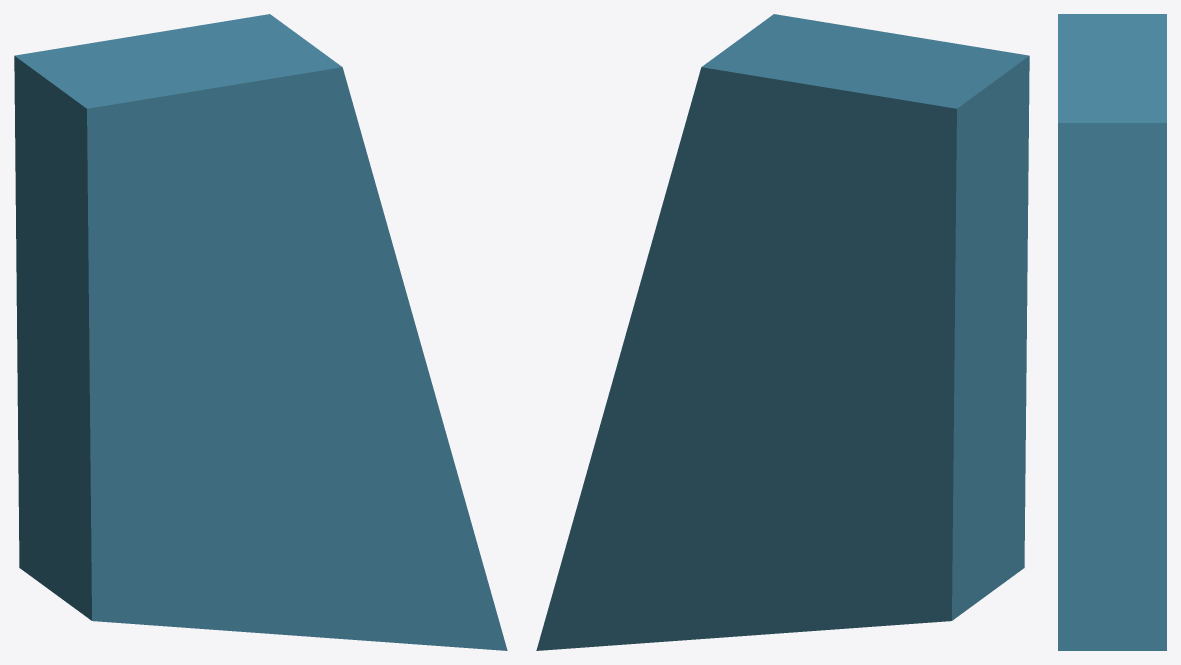
Rendered from NexusA_Trigger_58.fbx.
3 renders of one model, left to right at view 1: azimuth 30°, elevation 25°; view 2: azimuth 150°, elevation 25°; view 3: azimuth 270°, elevation 25°, orthographic. The views are drawn at different scales.
Parts seen in each view (by area): view 1: pCube14; view 2: pCube14; view 3: pCube14.
Boxes of the visible parts, x1=… form: pCube14: x1=14, y1=14, x2=507, y2=650; pCube14: x1=536, y1=14, x2=1029, y2=650; pCube14: x1=1058, y1=14, x2=1166, y2=650.
Bounding box in the file's own units: 28.93 × 42.37 × 8.65.
